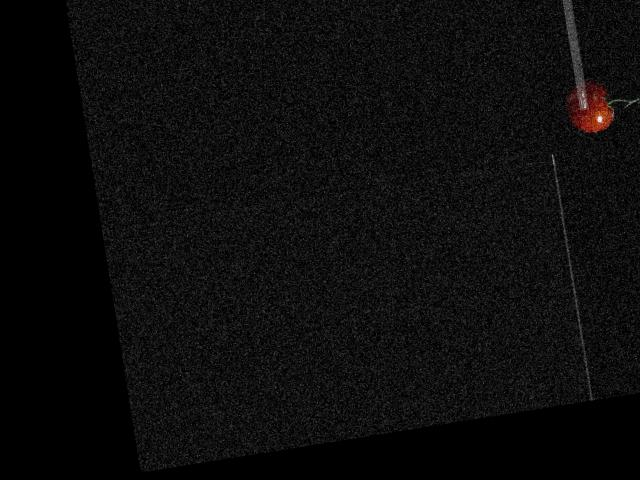tomato: (565, 79, 615, 134)
